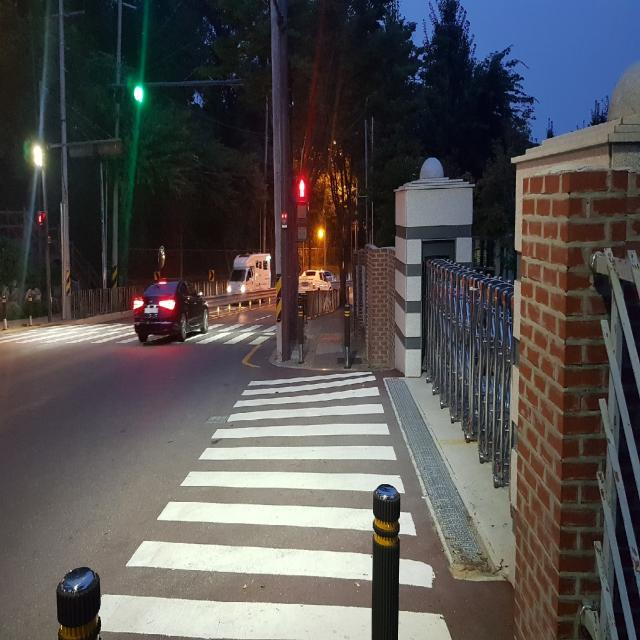빨간불: (296, 175, 308, 251)
횡단보도: (96, 368, 457, 640), (10, 305, 294, 346)
